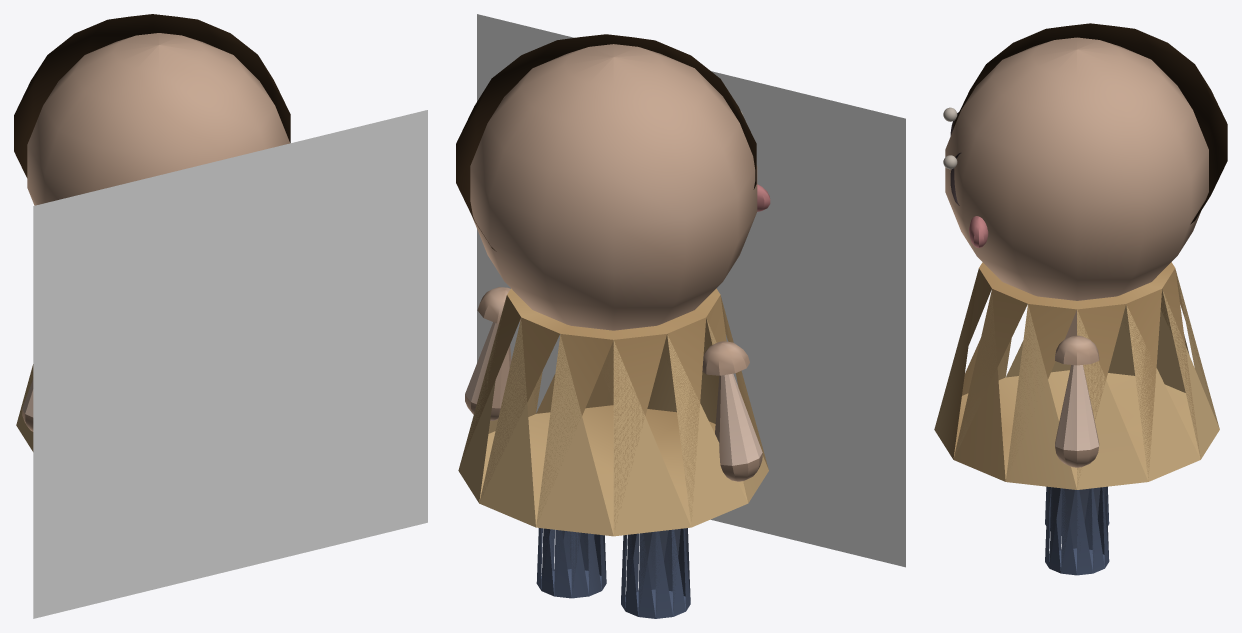
The picture shows the model from 3 angles, left to right: view 1: azimuth 30°, elevation 25°; view 2: azimuth 150°, elevation 25°; view 3: azimuth 270°, elevation 25°; orthographic projection. The views are drawn at different scales.
Visible parts, largest first — view 1: pet_pa97da13e; view 2: pet_pa97da13e; view 3: pet_pa97da13e.
Boxes of the visible parts, x1,y1,x2,y2 form: pet_pa97da13e: (14, 14, 427, 618); pet_pa97da13e: (456, 14, 905, 618); pet_pa97da13e: (934, 23, 1227, 575).
Size of the model in its own units: 0.51 by 0.625 by 0.3287.
